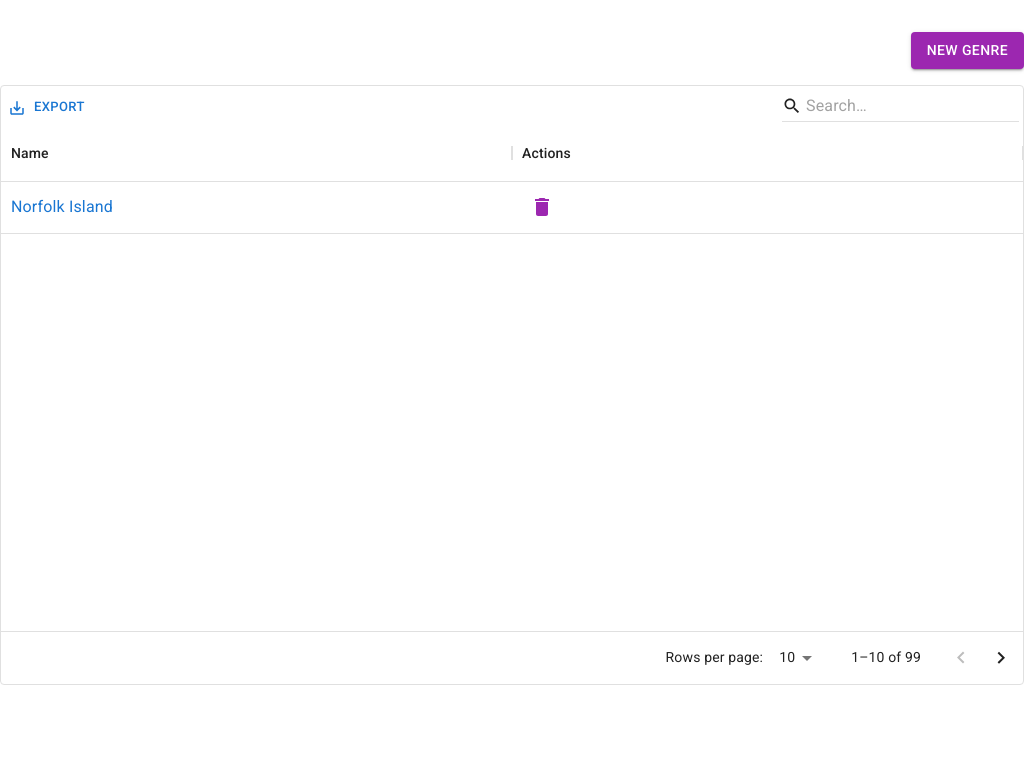
GenreList › should handle Delete Genre error
Expected: the text "Norfolk Island" is shown, 11,195 -> 113,219
Click the button with test id "delete-button" at (542, 207), box 522,187 -> 562,227
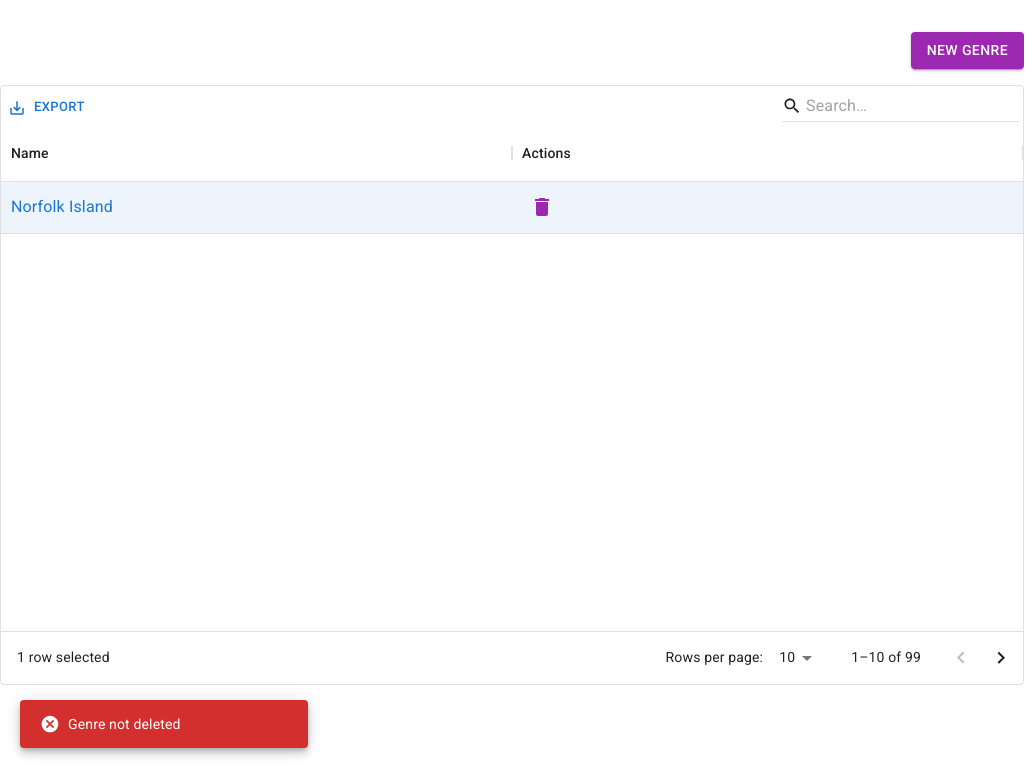
Now the text "Genre not deleted" is shown, box 40,714 -> 181,734
